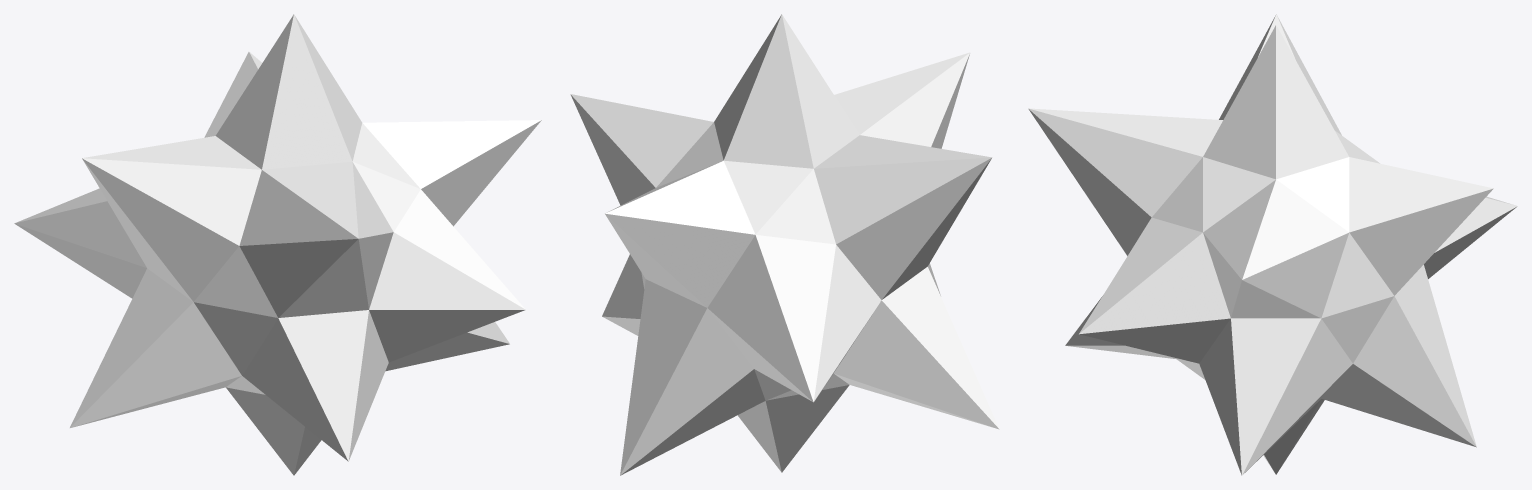
Rendered from star.obj.
3 views of the same model, side by side, from view 1: azimuth 30°, elevation 25°; view 2: azimuth 150°, elevation 25°; view 3: azimuth 270°, elevation 25° (orthographic). The views are drawn at different scales.
Visible parts, largest first — view 1: ICO球; view 2: ICO球; view 3: ICO球.
Part boxes in pixels (x1=…): ICO球: x1=14, y1=14, x2=541, y2=475; ICO球: x1=570, y1=14, x2=999, y2=475; ICO球: x1=1028, y1=14, x2=1517, y2=475.
Bounding box in the file's own units: 3.48 × 3.4 × 3.35.
1 material, 1 textured.
